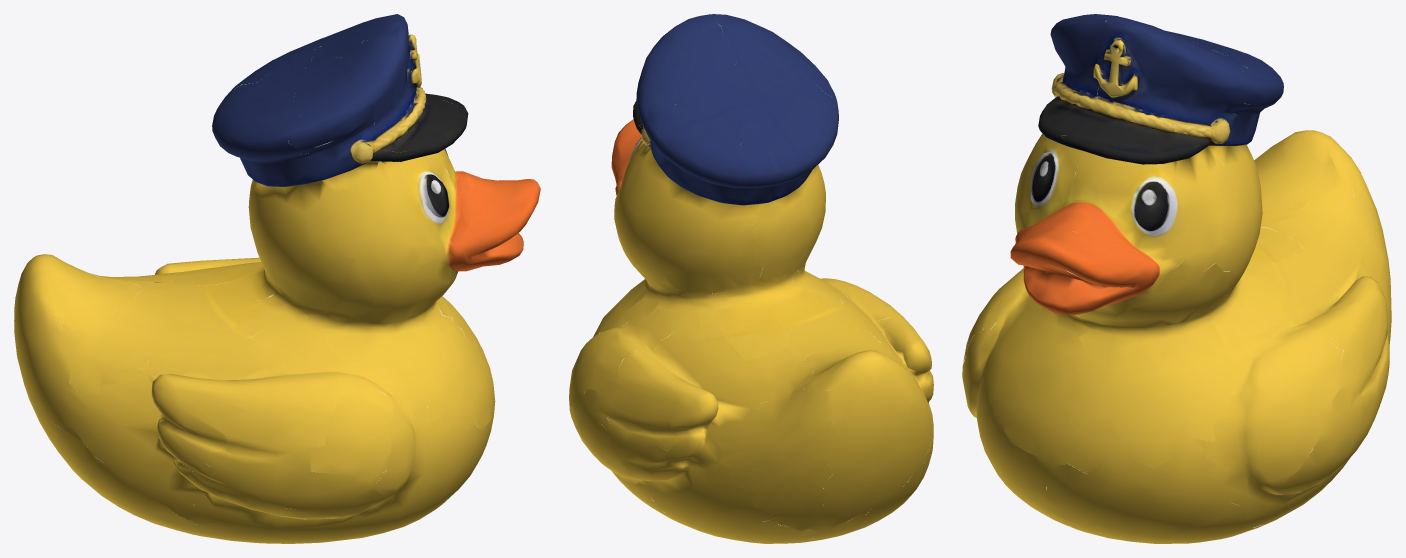
File: duck.glb
3 renders of one model, left to right at view 1: azimuth 30°, elevation 25°; view 2: azimuth 150°, elevation 25°; view 3: azimuth 270°, elevation 25°, orthographic. The views are drawn at different scales.
Parts seen in each view (by area): view 1: tripo_node_181e2fd6-3c40-48e5-827d-596542c55096; view 2: tripo_node_181e2fd6-3c40-48e5-827d-596542c55096; view 3: tripo_node_181e2fd6-3c40-48e5-827d-596542c55096.
Boxes of the visible parts, box(x1,y1,x2,y2) form: tripo_node_181e2fd6-3c40-48e5-827d-596542c55096: box(14, 14, 540, 543); tripo_node_181e2fd6-3c40-48e5-827d-596542c55096: box(569, 14, 933, 543); tripo_node_181e2fd6-3c40-48e5-827d-596542c55096: box(962, 14, 1391, 543).
Size of the model in its own units: 0.8148 by 0.9 by 0.6771.
Materials: 1 (1 with a texture image).
